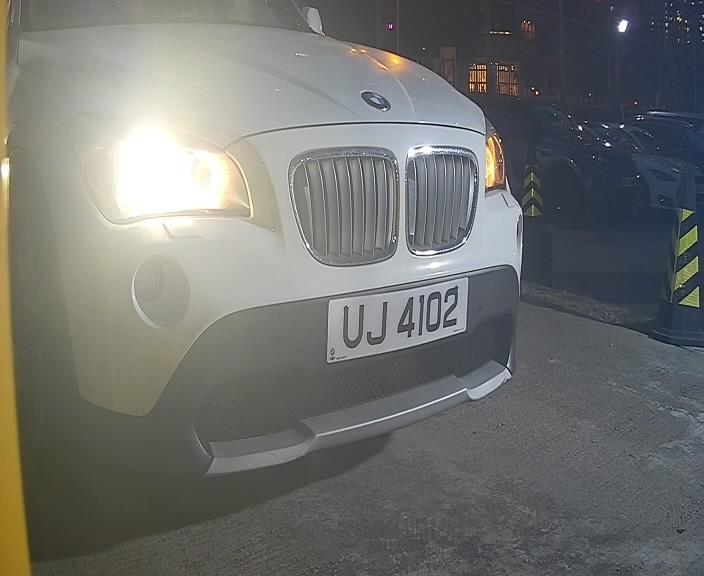License Plate: (315, 268, 472, 366)
